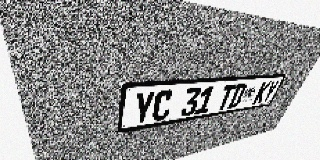1: (194, 86, 216, 114)
3: (180, 87, 202, 117)
C: (151, 89, 174, 122)
D: (227, 83, 248, 109)
K: (252, 81, 272, 104)
T: (215, 84, 237, 111)
Y: (132, 91, 156, 125), (261, 80, 280, 103)
